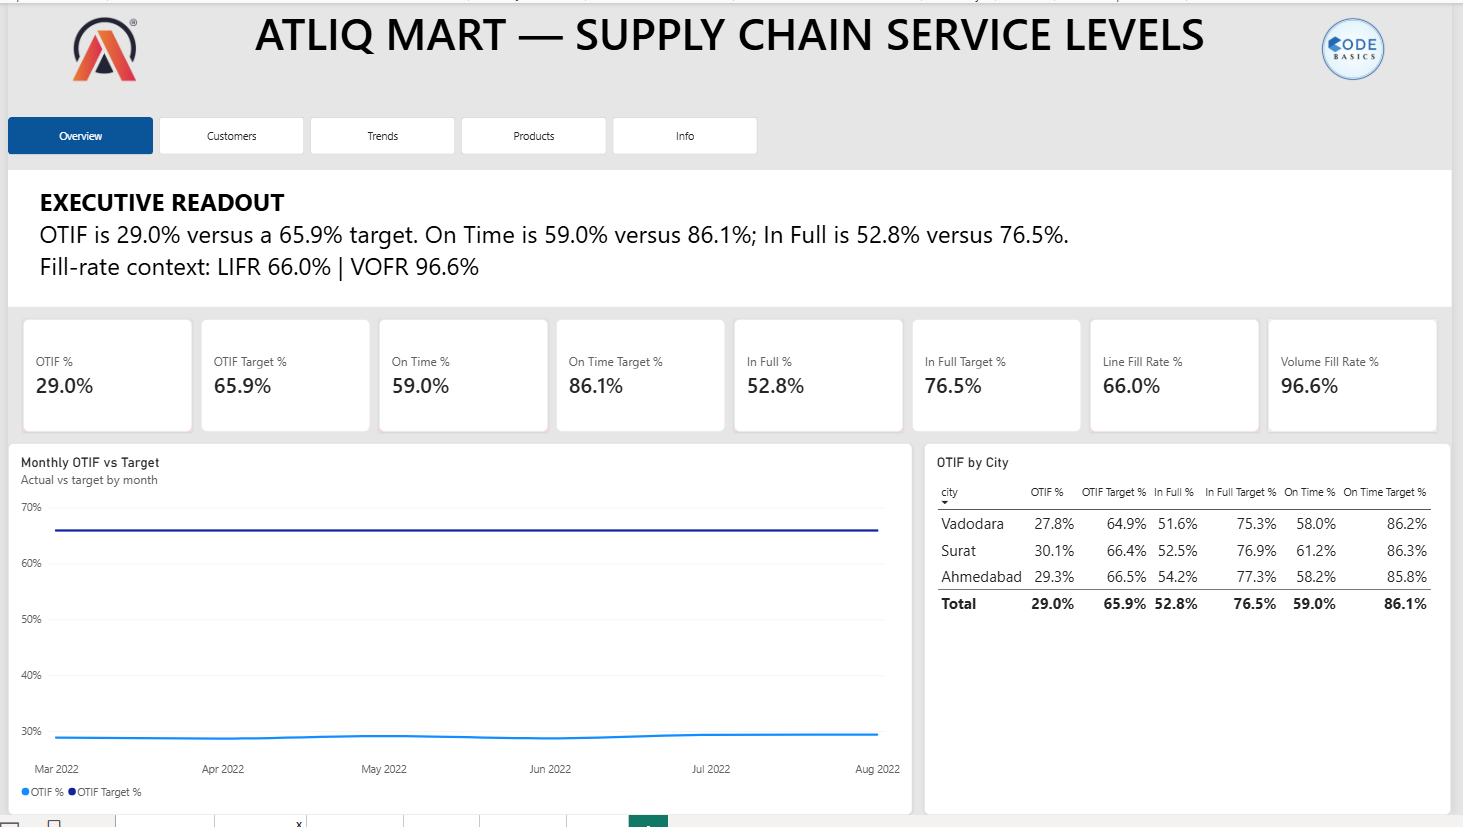

This screenshot's page, from the dashboard's own definition file:
{"tool":"powerbi","page":{"name":"Overview ","canvas":[1920,1080],"ordinal":1},"visuals":[{"type":"image","box":[0,16.9,259.7,87],"z":0},{"type":"image","box":[1658.4,16.9,261,88.3],"z":1000},{"type":"textbox","box":[0,0,1920,122.9],"z":2000},{"type":"textbox","box":[0,222.7,1920,181.9],"z":3000},{"type":"cardVisual","fields":{"Data":["Measures table.OTIF %"]},"box":[19.8,420.4,225,150],"z":4000},{"type":"cardVisual","fields":{"Data":["Measures table.On Time %"]},"box":[493,420.4,225,150],"z":5000},{"type":"cardVisual","fields":{"Data":["Measures table.In Full %"]},"box":[966,420.4,225,150],"z":6000},{"type":"cardVisual","fields":{"Data":["Measures table.Line Fill Rate %"]},"box":[1439,420.4,225,150],"z":7000},{"type":"cardVisual","fields":{"Data":["Measures table.Volume Fill Rate %"]},"box":[1676.2,420.4,225,150],"z":8000},{"type":"lineChart","title":"Monthly OTIF vs Target","fields":{"Category":["dim_date.mmm_yy"],"Y":["Measures table.OTIF %","Measures table.OTIF Target %"]},"box":[0,585.1,1203.1,495.5],"z":9000},{"type":"tableEx","title":"OTIF by City","fields":{"Values":["dim_customers.city","Measures table.OTIF %","Measures table.OTIF Target %","Measures table.In Full %","Measures table.In Full Target %","Measures table.On Time %","Measures table.On Time Target %"]},"box":[1218.9,585.1,701.1,495.5],"z":10000},{"type":"pageNavigator","box":[0,151.5,1000,50],"z":12000},{"type":"cardVisual","fields":{"Data":["Measures table.OTIF Target %"]},"box":[257,420.4,225,150],"z":13000},{"type":"cardVisual","fields":{"Data":["Measures table.On Time Target %"]},"box":[729,420.4,225,150],"z":14000},{"type":"cardVisual","fields":{"Data":["Measures table.In Full Target %"]},"box":[1203,420.4,225,150],"z":15000}]}

Visuals, with their boxes on the page's 1920x1080 design canvas (x1, y1, x2, y2). These are canvas units, not pixel positions in the 1463x827 screenshot, which may show the page scaled, cropped or inside an application window:
image: region(0, 17, 260, 104)
image: region(1658, 17, 1919, 105)
textbox: region(0, 0, 1920, 123)
textbox: region(0, 223, 1920, 405)
cardVisual - Measures table.OTIF %: region(20, 420, 245, 570)
cardVisual - Measures table.On Time %: region(493, 420, 718, 570)
cardVisual - Measures table.In Full %: region(966, 420, 1191, 570)
cardVisual - Measures table.Line Fill Rate %: region(1439, 420, 1664, 570)
cardVisual - Measures table.Volume Fill Rate %: region(1676, 420, 1901, 570)
"Monthly OTIF vs Target" lineChart: region(0, 585, 1203, 1081)
"OTIF by City" tableEx: region(1219, 585, 1920, 1081)
pageNavigator: region(0, 152, 1000, 202)
cardVisual - Measures table.OTIF Target %: region(257, 420, 482, 570)
cardVisual - Measures table.On Time Target %: region(729, 420, 954, 570)
cardVisual - Measures table.In Full Target %: region(1203, 420, 1428, 570)
